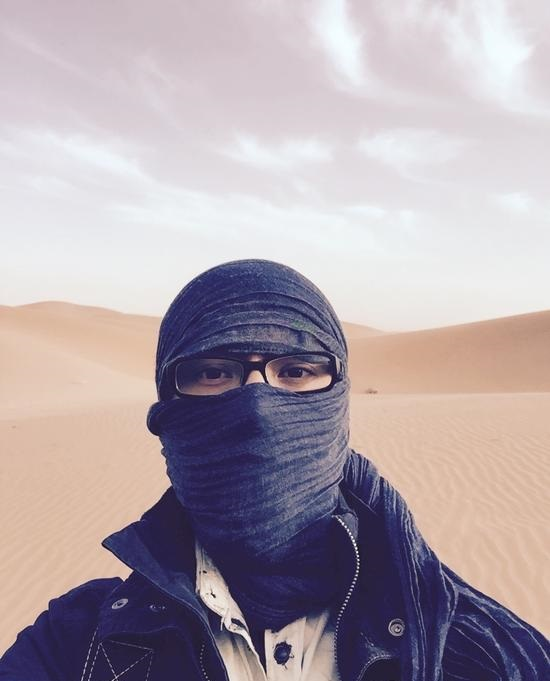face_mask: (156, 294, 348, 556)
